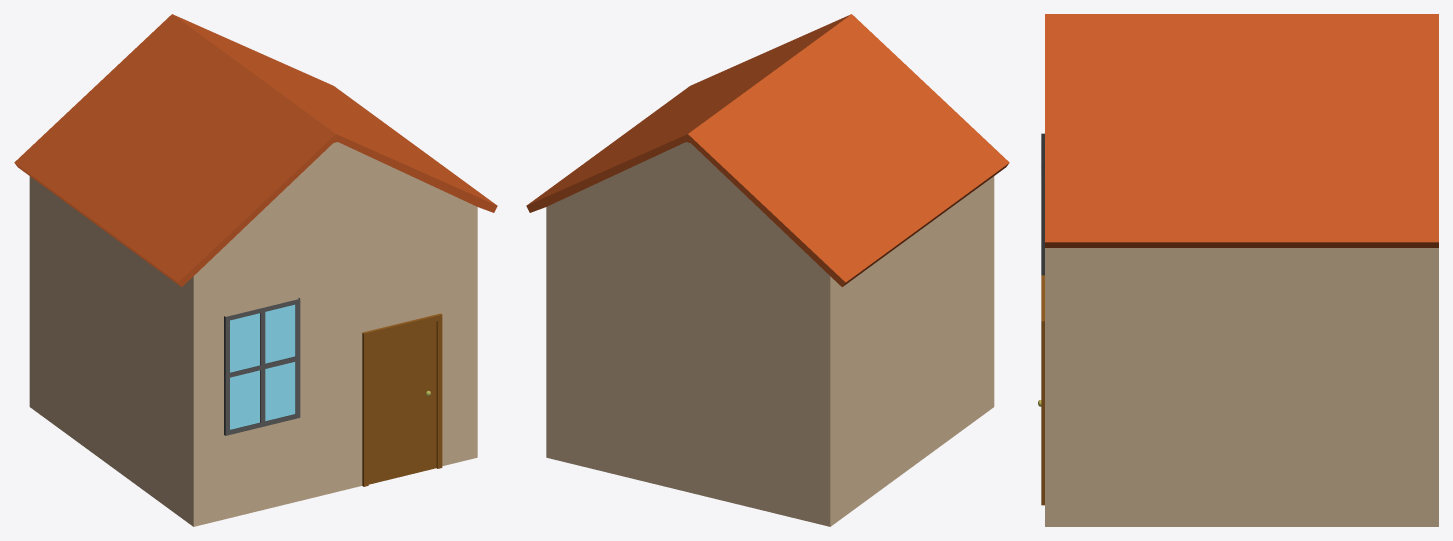
File: SM_FinishedHouse.FBX
3 renders of one model, left to right at view 1: azimuth 30°, elevation 25°; view 2: azimuth 150°, elevation 25°; view 3: azimuth 270°, elevation 25°, orthographic. The views are drawn at different scales.
Parts seen in each view (by area): view 1: FinishedHouse001; view 2: FinishedHouse001; view 3: FinishedHouse001.
Boxes of the visible parts, x1,y1,x2,y2 form: FinishedHouse001: [14, 14, 497, 526]; FinishedHouse001: [526, 14, 1009, 526]; FinishedHouse001: [1038, 14, 1438, 526].
Bounding box in the file's own units: 169 × 181 × 153.
